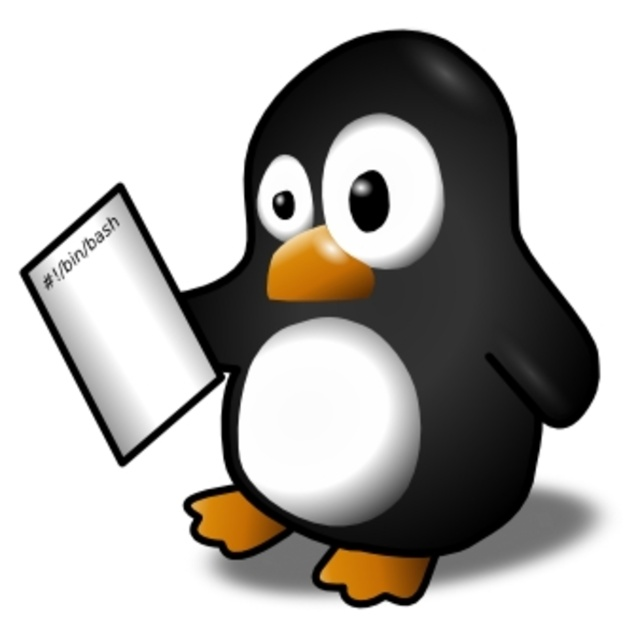Penguin: (180, 29, 602, 604)
